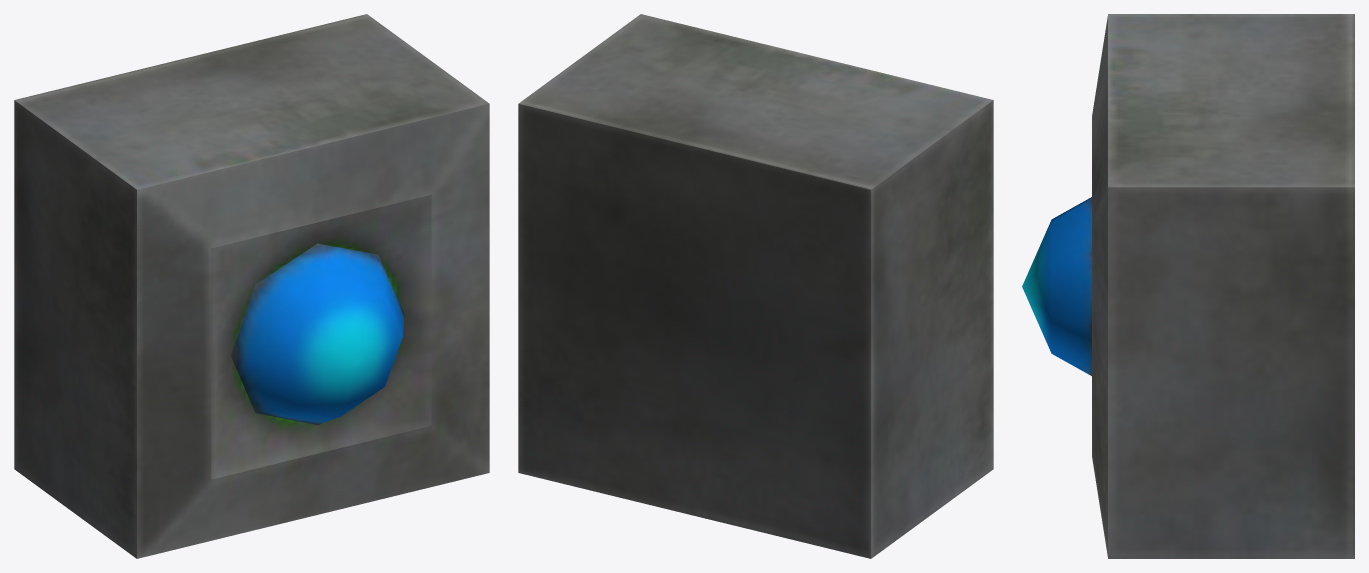
The model's file is hardware3.obj.
3 views of the same model, side by side, from view 1: azimuth 30°, elevation 25°; view 2: azimuth 150°, elevation 25°; view 3: azimuth 270°, elevation 25° (orthographic).
Parts seen in each view (by area): view 1: Object16; view 2: Object16; view 3: Object16.
Boxes of the visible parts, x1,y1,x2,y2 form: Object16: (14,14,489,558); Object16: (518,14,993,558); Object16: (1022,14,1354,558).
Size of the model in its own units: 20.04 by 20.04 by 16.27.
Materials: 1 (1 with a texture image).
